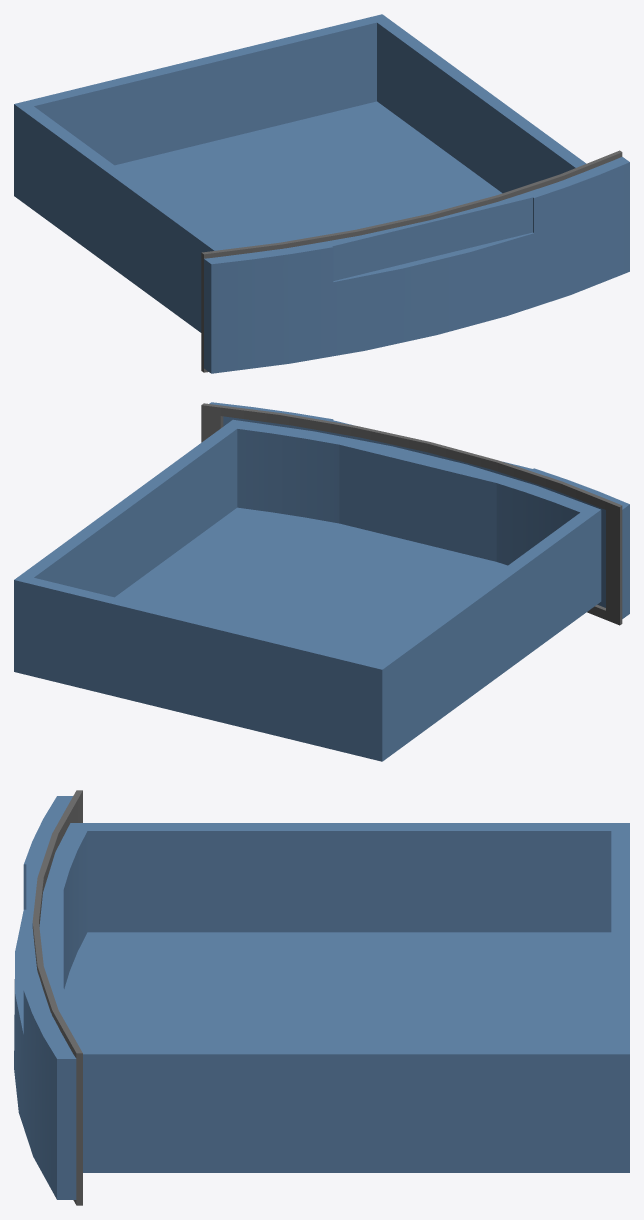
The model's file is step_02.glb.
3 renders of one model, top to bottom at view 1: azimuth 30°, elevation 25°; view 2: azimuth 150°, elevation 25°; view 3: azimuth 270°, elevation 25°, orthographic. The views are drawn at different scales.
Visible parts, largest first — view 1: part__dispensing drawer, part__drawer seal; view 2: part__dispensing drawer, part__drawer seal; view 3: part__dispensing drawer, part__drawer seal.
Part boxes in pixels (left/top/right/bottom): part__dispensing drawer: left=14, top=14, right=629, bottom=373; part__drawer seal: left=201, top=150, right=622, bottom=372; part__dispensing drawer: left=14, top=402, right=629, bottom=761; part__drawer seal: left=201, top=403, right=622, bottom=625; part__dispensing drawer: left=14, top=796, right=629, bottom=1199; part__drawer seal: left=32, top=790, right=82, bottom=1205.
Bounding box in the file's own units: 50 × 13.5 × 49.5.
